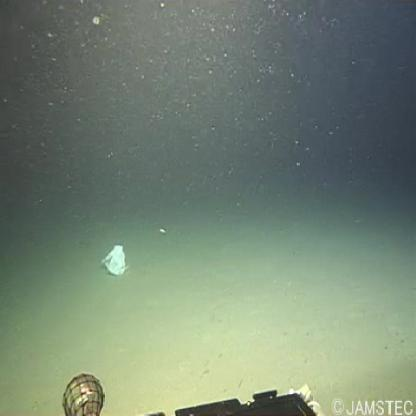Rác: (93, 235, 138, 291)
